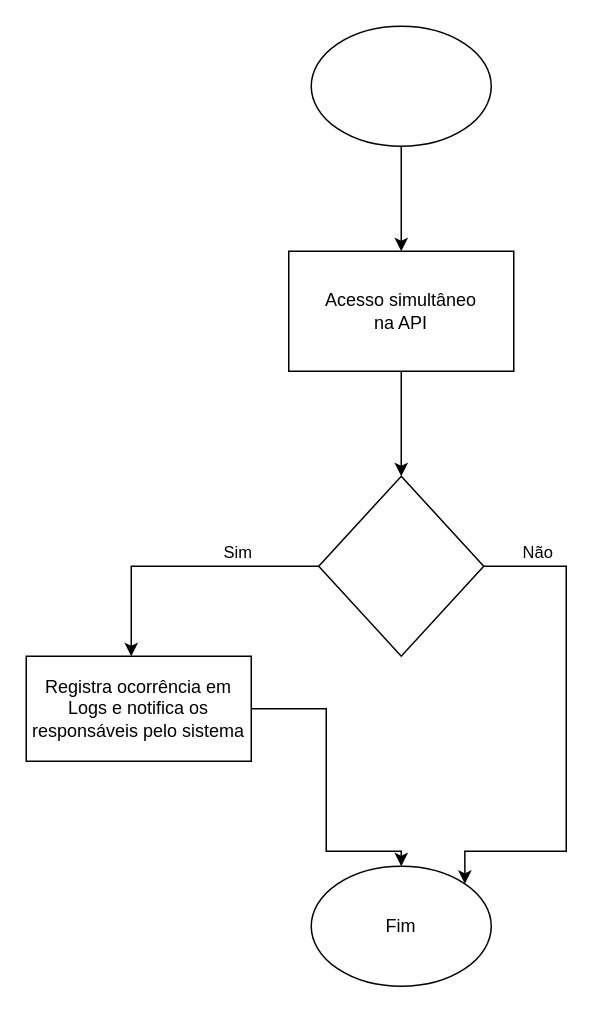
The diagram is 605 pixels wide and 1013 high, and some of its shapes have lost their labels. The shapes that lost their labels are listed below. From the top down, each one's centre as x and y in pixels, then its label:
point (400, 85): Início
point (400, 565): Mais de 100 usuários simultãneos
